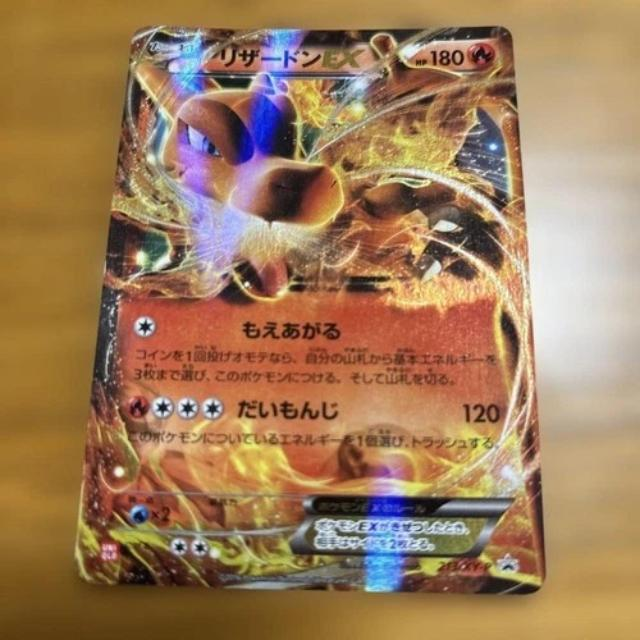Card: (66, 17, 552, 603)
Name: (157, 29, 378, 76)
